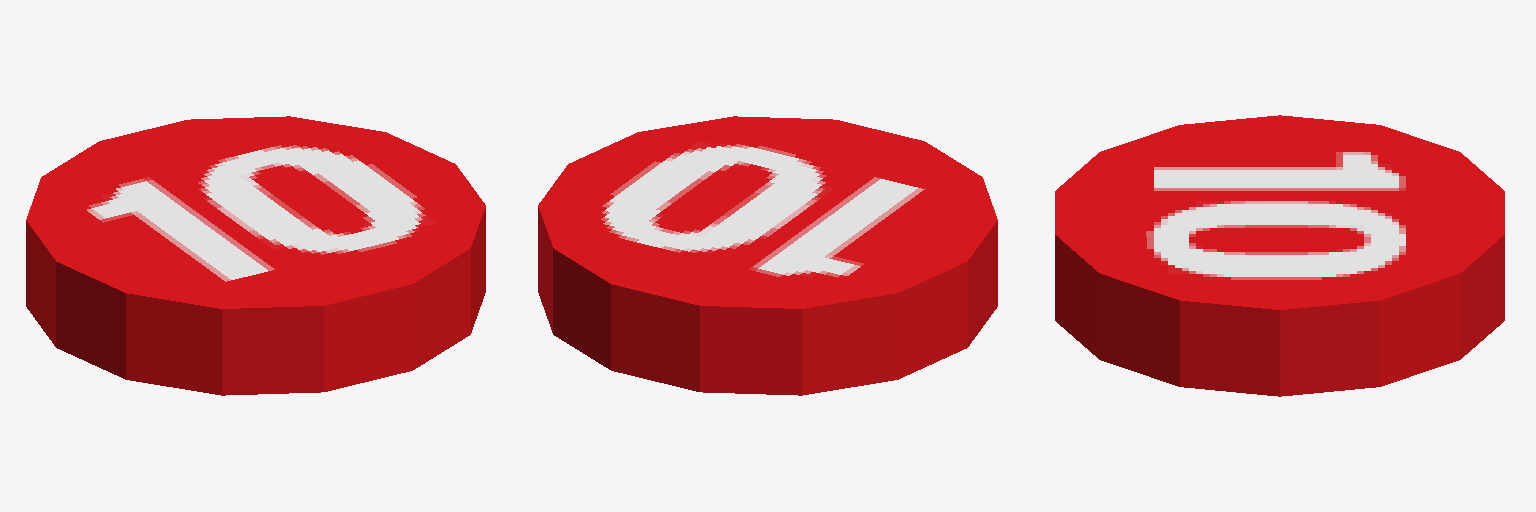
3 views of the same model, side by side, from view 1: azimuth 30°, elevation 25°; view 2: azimuth 150°, elevation 25°; view 3: azimuth 270°, elevation 25° (orthographic).
Visible parts, largest first — view 1: Mesh_0040; view 2: Mesh_0040; view 3: Mesh_0040.
Part boxes in pixels (left/top/right/bottom): Mesh_0040: left=26, top=116, right=485, bottom=395; Mesh_0040: left=538, top=116, right=997, bottom=395; Mesh_0040: left=1055, top=115, right=1504, bottom=396.
Size of the model in its own units: 0.7001 by 0.1449 by 0.6826.
1 materials, 1 textured.